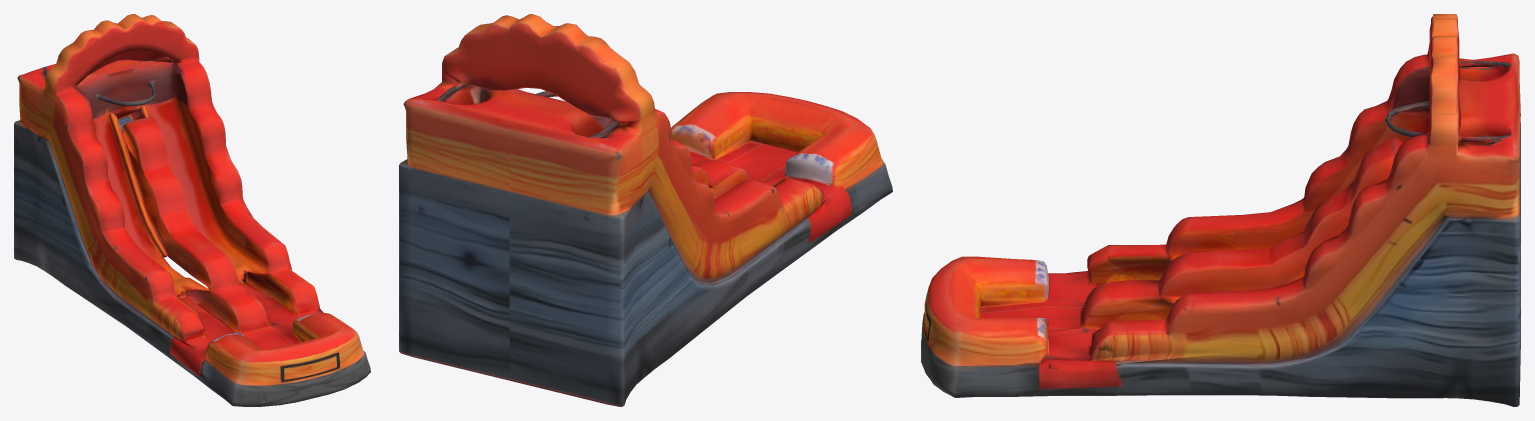
Rendered from Inflatable_Fire_Red_Marble_12FTTall_0222022800_texture.glb.
The picture shows the model from 3 angles, left to right: view 1: azimuth 30°, elevation 25°; view 2: azimuth 150°, elevation 25°; view 3: azimuth 270°, elevation 25°; orthographic projection. The views are drawn at different scales.
Visible parts, largest first — view 1: Mesh_0; view 2: Mesh_0; view 3: Mesh_0.
Part boxes in pixels (x1,y1,x2,y2): Mesh_0: (14,14,370,406); Mesh_0: (399,14,892,406); Mesh_0: (921,14,1520,406).
Size of the model in its own units: 2.6 by 3.66 by 6.12.
Materials: 1 (1 with a texture image).
